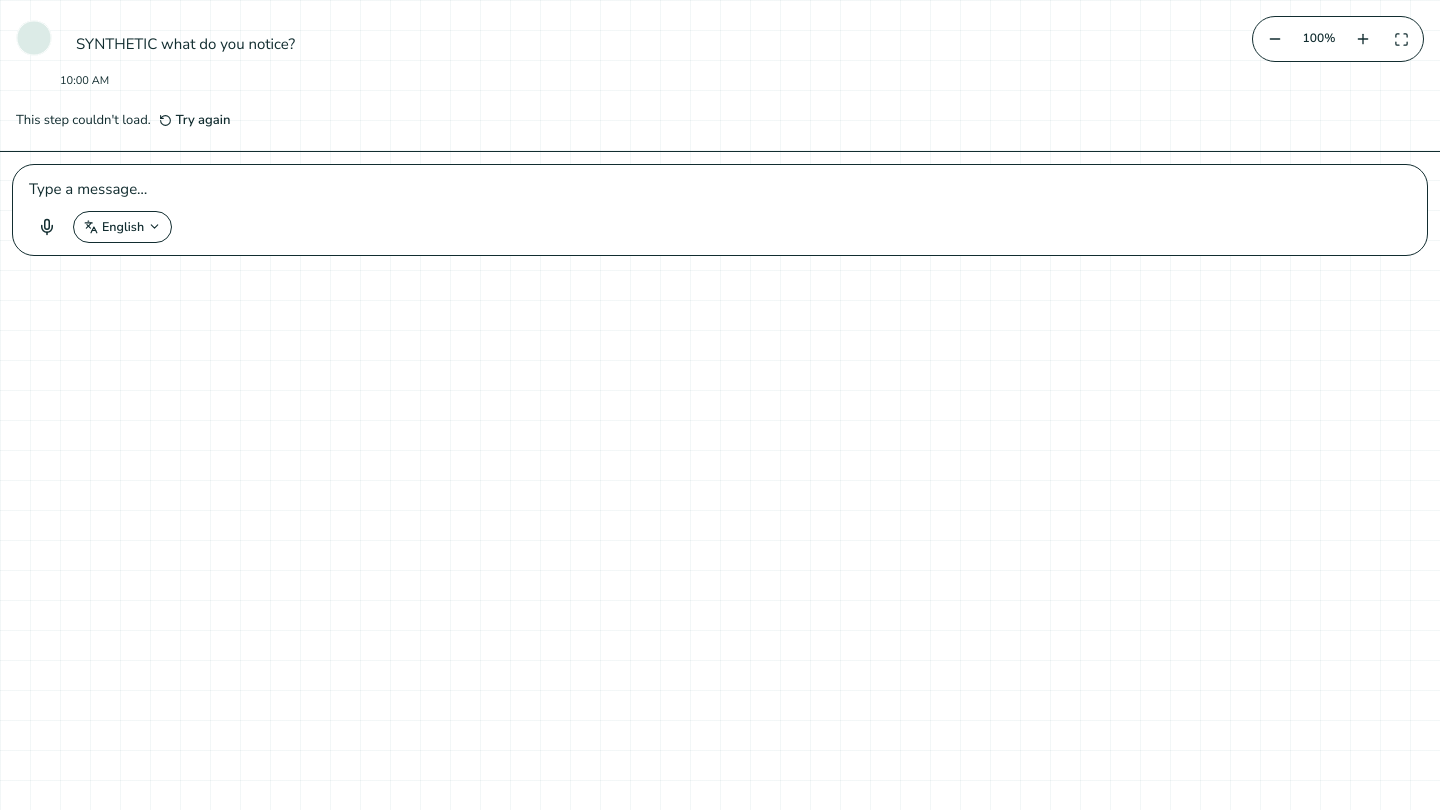
moving to the next step, on screen › a step whose payload cannot be read is said, not skipped over; Try again reads it and opens the step
The image size is (1440, 810).
Check: the message shows "This step couldn't load.", box [16,111,151,129]
Check: the text box named "Message your tutor" is enabled, box [29,177,1411,201]
Click the button "Try again": (195, 120) [159,110,230,131]
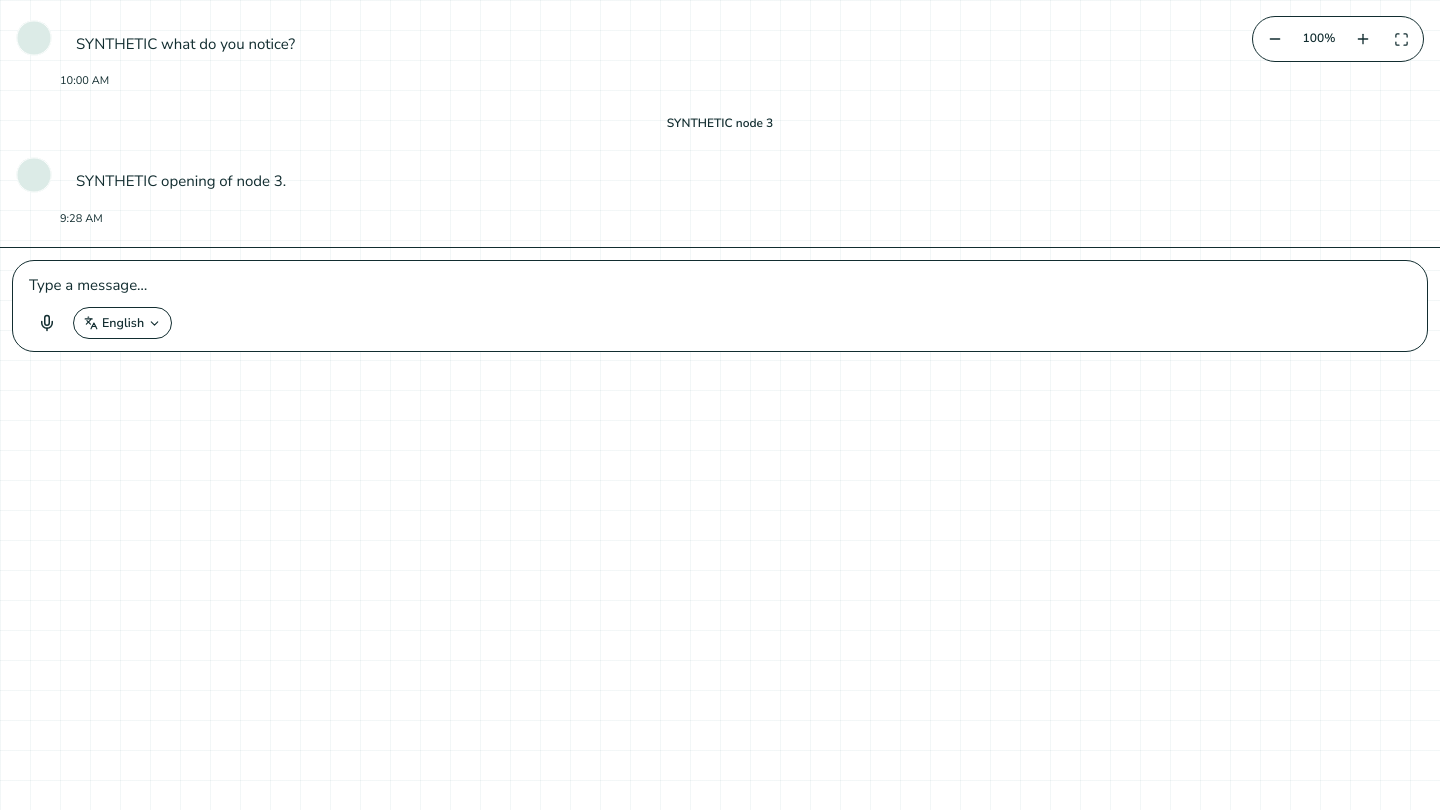
Check: the text "SYNTHETIC opening of node 3." is shown, box [76,169,286,194]
Check: the text "SYNTHETIC node 3" is shown, box [667,114,773,133]
Check: the text "This step couldn't load." is gone
